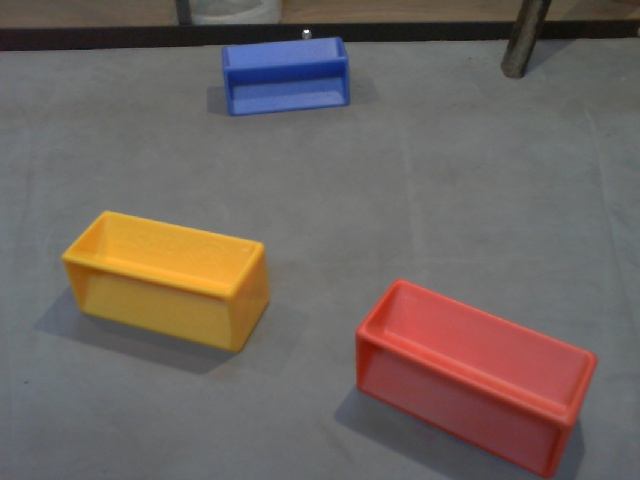BlueSample: (217, 39, 352, 119)
RedSample: (350, 279, 598, 479)
YellowSample: (60, 206, 273, 357)
